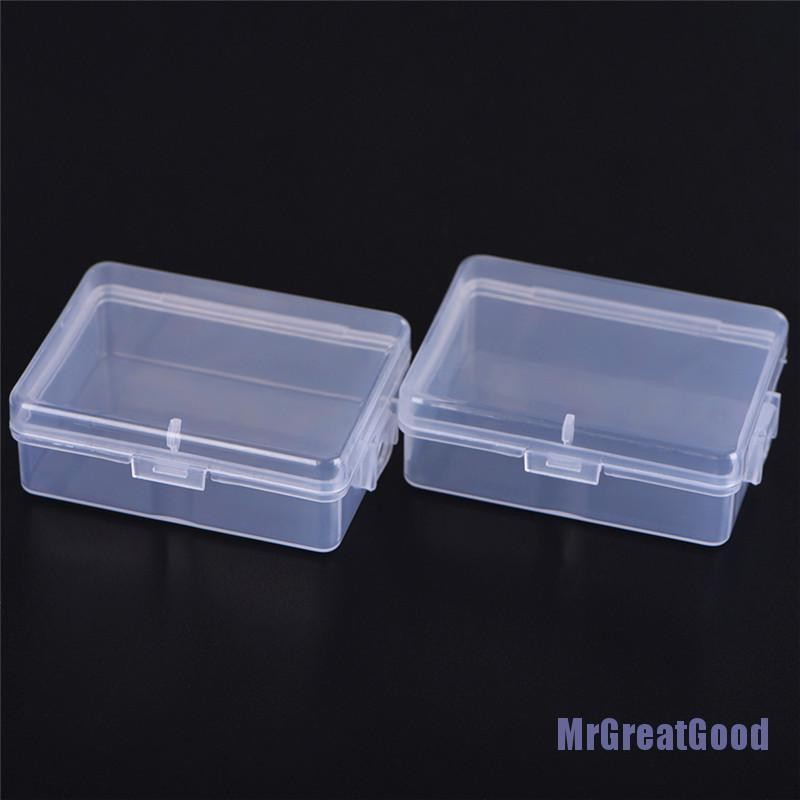PlasticBox: (394, 244, 800, 551)
